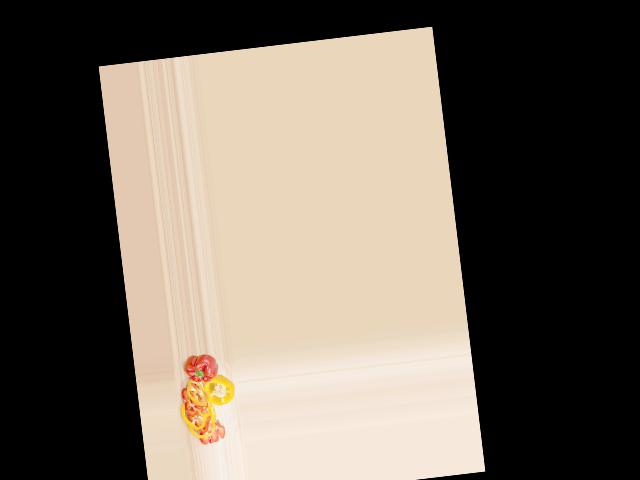bell_pepper: (203, 374, 237, 408)
